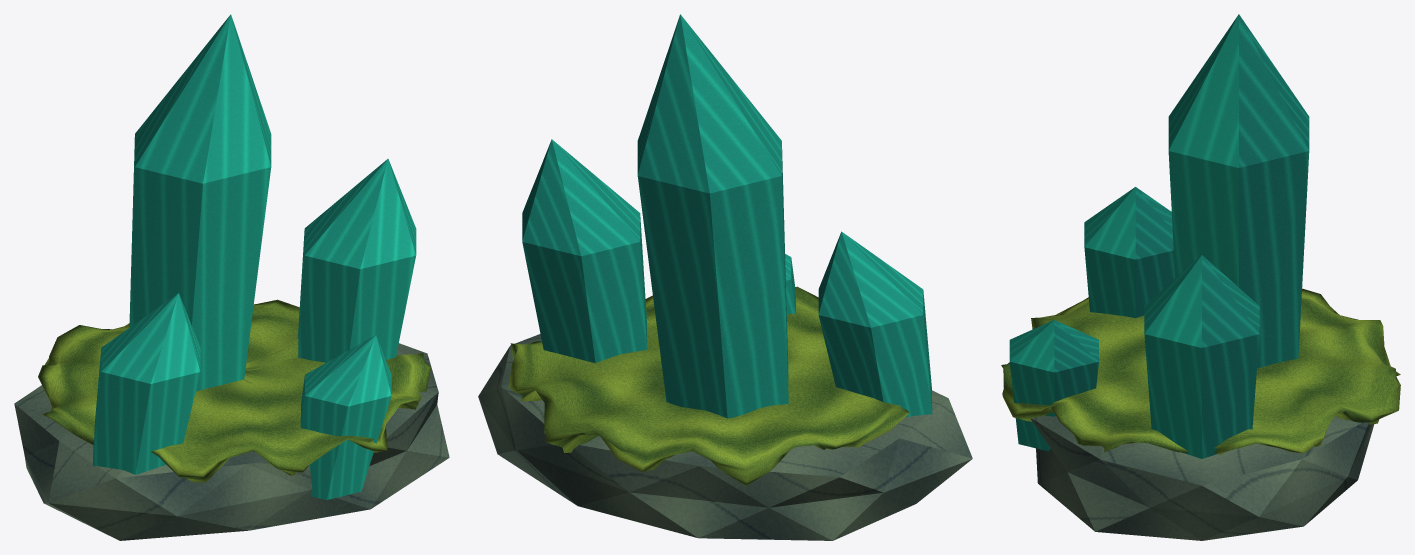
The model's file is teal-crystals.glb.
3 views of the same model, side by side, from view 1: azimuth 30°, elevation 25°; view 2: azimuth 150°, elevation 25°; view 3: azimuth 270°, elevation 25° (orthographic). The views are drawn at different scales.
Visible parts, largest first — view 1: teal-crystals_crystal, teal-crystals_stone, teal-crystals_moss; view 2: teal-crystals_crystal, teal-crystals_stone, teal-crystals_moss; view 3: teal-crystals_crystal, teal-crystals_stone, teal-crystals_moss.
Part boxes in pixels (box(x1,y1,x2,y2)): teal-crystals_crystal: box(93, 14, 416, 499); teal-crystals_stone: box(14, 343, 449, 540); teal-crystals_moss: box(38, 299, 431, 482); teal-crystals_crystal: box(522, 14, 932, 418); teal-crystals_stone: box(478, 334, 972, 540); teal-crystals_moss: box(508, 286, 909, 486); teal-crystals_crystal: box(1009, 14, 1309, 458); teal-crystals_stone: box(1031, 415, 1374, 540); teal-crystals_moss: box(1001, 288, 1400, 454).
Bounding box in the file's own units: 1.33 × 1.4 × 1.08.
Materials: 3 (3 with a texture image).
